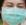with_mask: (2, 2, 26, 25)
